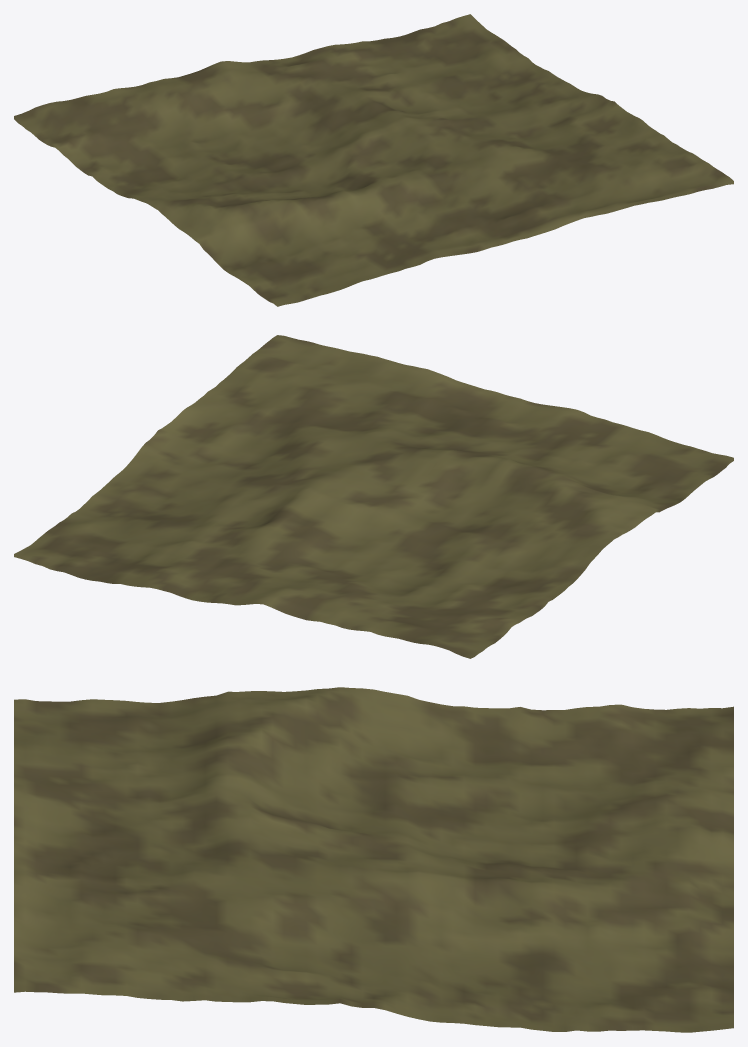
File: land_f_09_05.glb
The picture shows the model from 3 angles, top to bottom: view 1: azimuth 30°, elevation 25°; view 2: azimuth 150°, elevation 25°; view 3: azimuth 270°, elevation 25°; orthographic projection. The views are drawn at different scales.
Parts seen in each view (by area): view 1: land_f_09_05; view 2: land_f_09_05; view 3: land_f_09_05.
Part boxes in pixels (bbox=[...]): land_f_09_05: bbox=[14, 14, 733, 306]; land_f_09_05: bbox=[14, 335, 733, 658]; land_f_09_05: bbox=[14, 687, 733, 1032].
Bounding box in the file's own units: 3840 × 321 × 3840.
